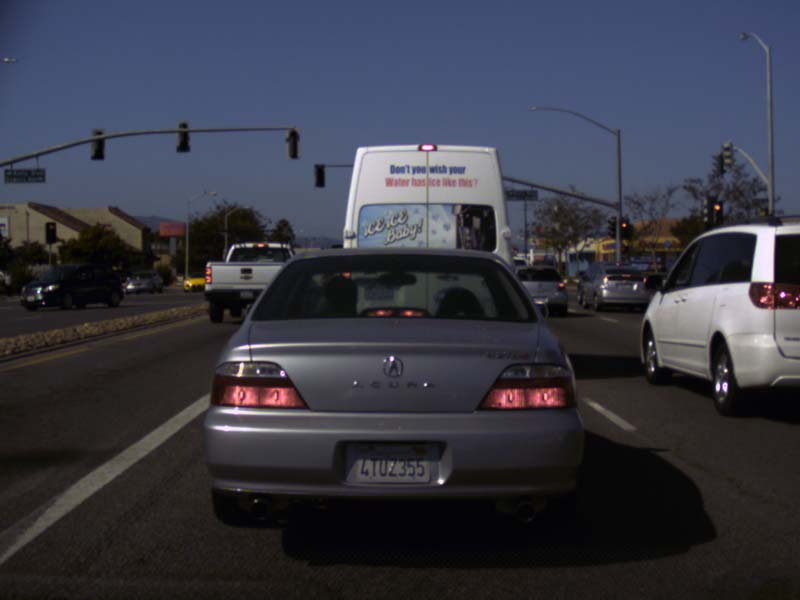Red: (45, 222, 55, 243), (620, 219, 628, 239)
Yellow: (712, 201, 721, 224)
